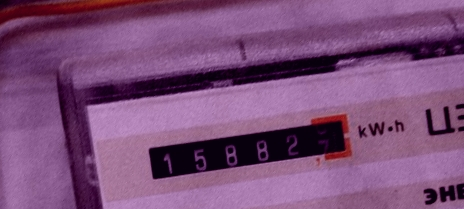1: (160, 149, 175, 176)
2: (283, 131, 302, 158)
5: (191, 145, 208, 173)
7: (315, 136, 332, 155)
8: (221, 141, 241, 168), (253, 136, 271, 163)
screen: (137, 107, 362, 194)
